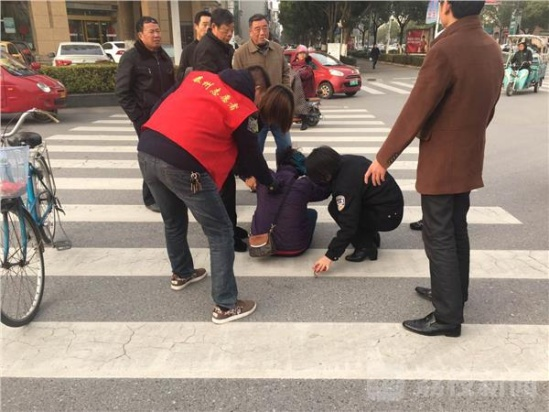falling: (237, 152, 331, 264)
